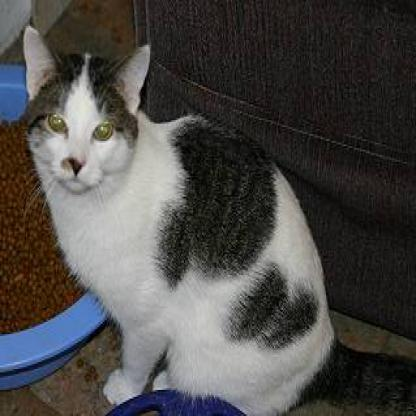cat: (16, 15, 297, 345)
